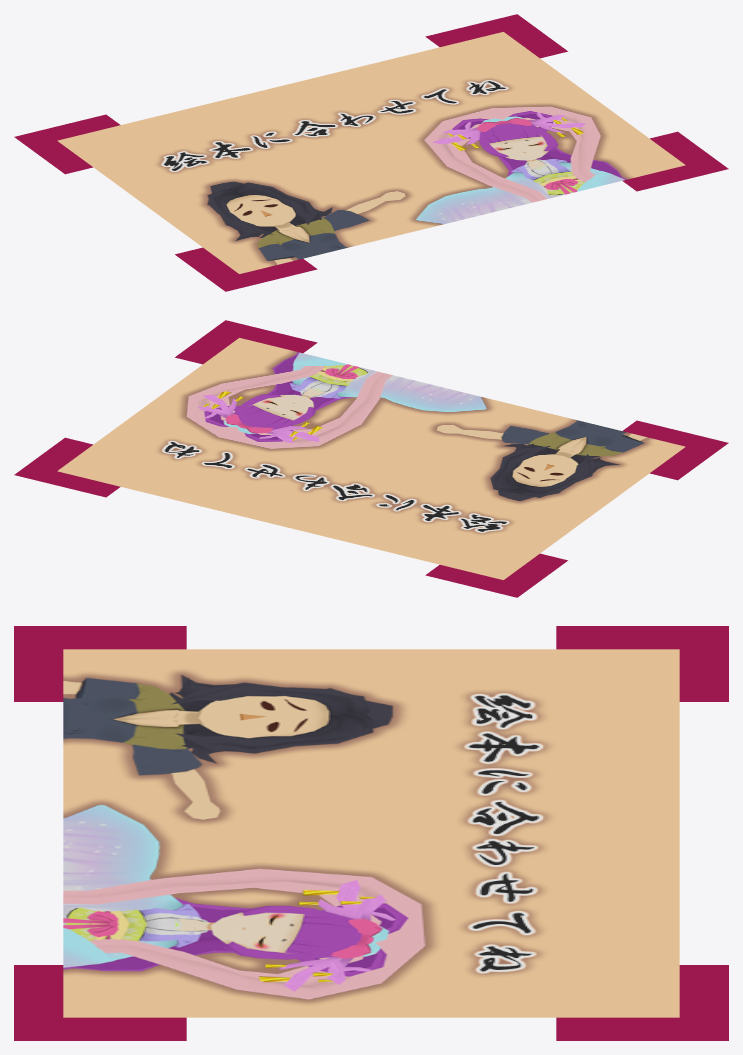
Rendered from awaseruyatu.fbx.
The picture shows the model from 3 angles, top to bottom: view 1: azimuth 30°, elevation 25°; view 2: azimuth 150°, elevation 25°; view 3: azimuth 270°, elevation 25°; orthographic projection. The views are drawn at different scales.
Parts seen in each view (by area): view 1: awaseruyatu; view 2: awaseruyatu; view 3: awaseruyatu.
Boxes of the visible parts, <box> form: awaseruyatu: <box>14,14,728,291</box>; awaseruyatu: <box>14,320,728,597</box>; awaseruyatu: <box>14,626,728,1040</box>.
Size of the model in its own units: 164 by 2.65e-14 by 120.
1 material, 1 textured.
